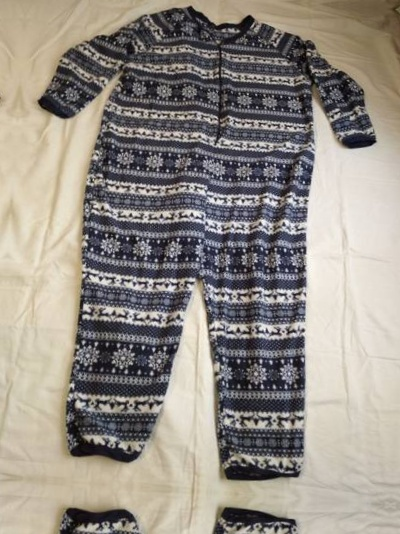Body: (3, 0, 400, 489), (0, 493, 366, 534), (0, 0, 15, 461), (380, 523, 400, 534)
